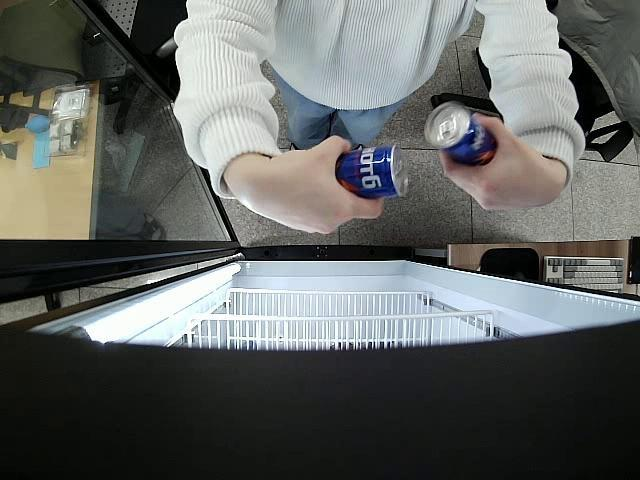16_hot6: (424, 103, 498, 168), (336, 144, 411, 200)
